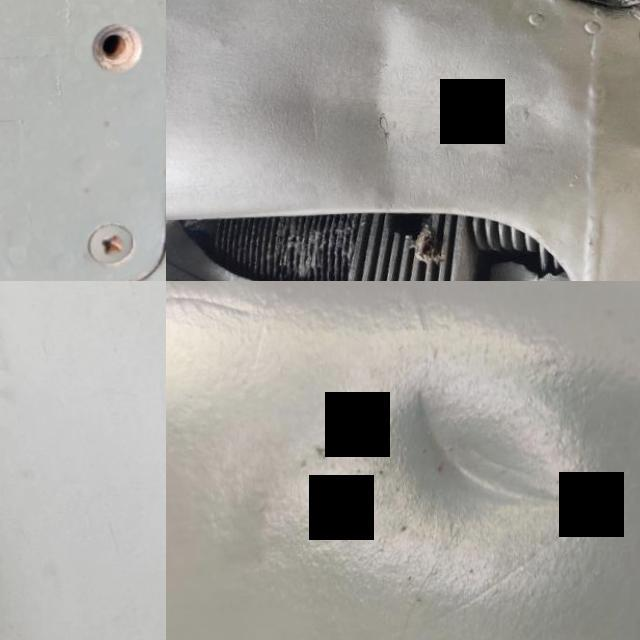Dent: (210, 0, 624, 219), (362, 352, 634, 577)
Missing_Fastener: (50, 0, 166, 117)
